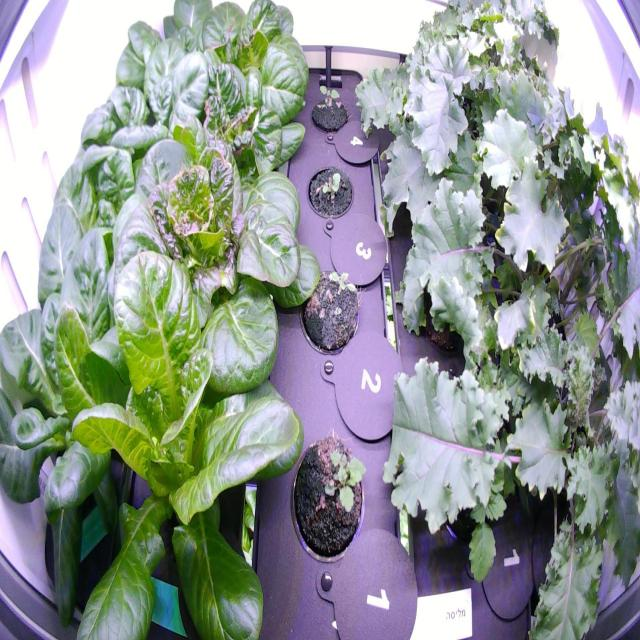Ready: (44, 236, 308, 638), (92, 122, 328, 408), (156, 37, 312, 195), (184, 0, 314, 121)
young: (0, 192, 177, 635), (28, 122, 184, 364), (68, 24, 214, 182), (109, 0, 225, 131)
